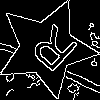R: (22, 23, 81, 81)
